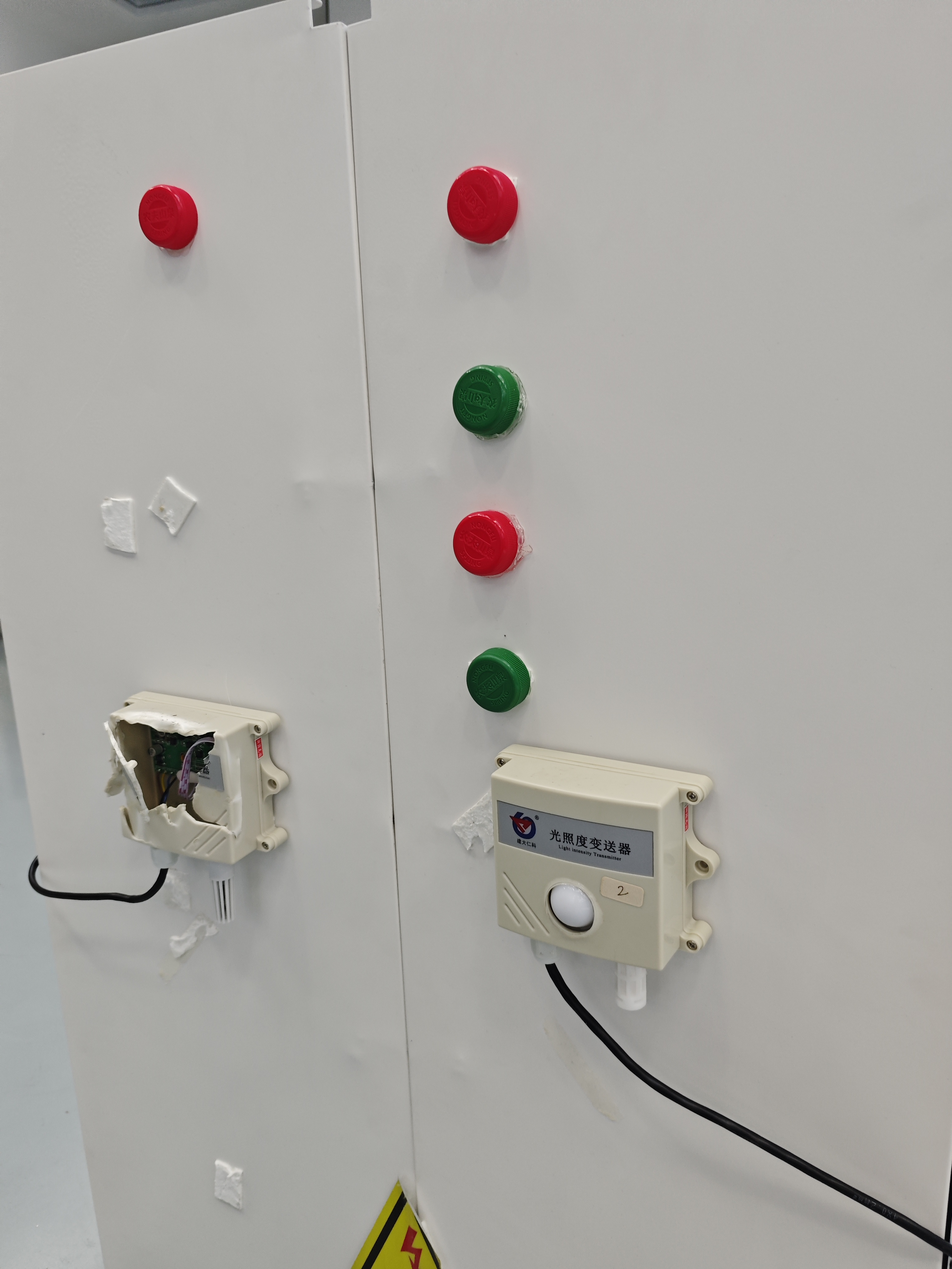red_warning: (430, 134, 533, 266), (440, 478, 553, 595), (109, 177, 235, 270)
sensor_damage: (77, 652, 297, 979)
